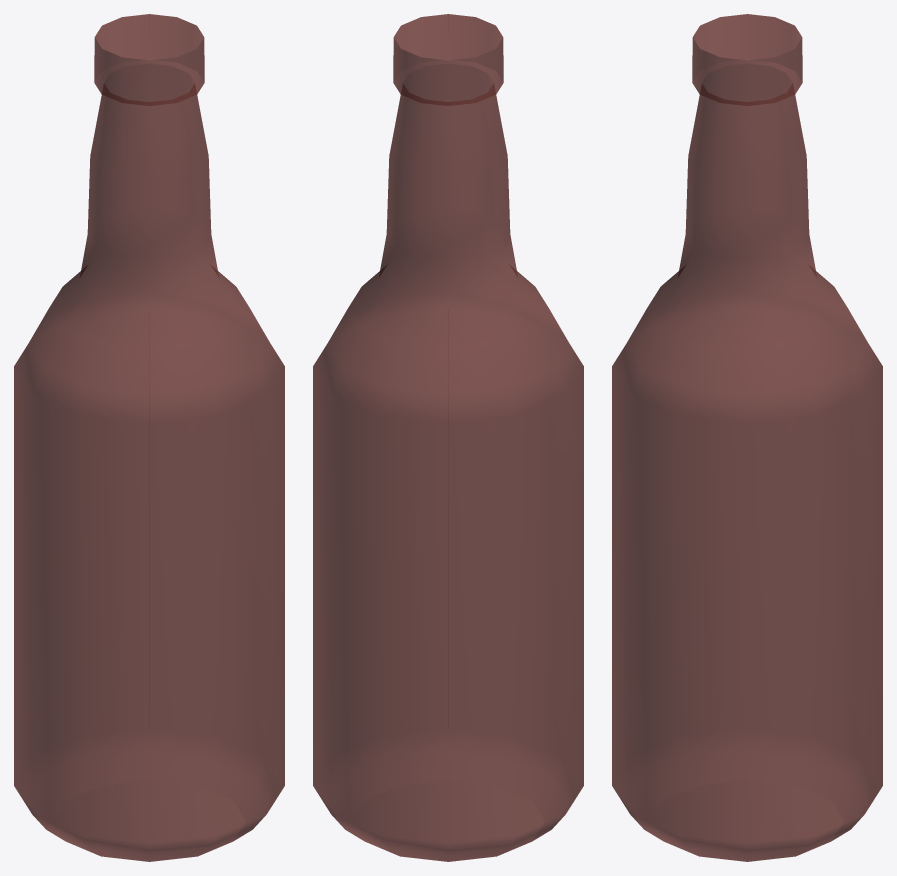
The model's file is Rum Bottle1.fbx.
3 renders of one model, left to right at view 1: azimuth 30°, elevation 25°; view 2: azimuth 150°, elevation 25°; view 3: azimuth 270°, elevation 25°, orthographic.
Parts seen in each view (by area): view 1: Rum_bottle1; view 2: Rum_bottle1; view 3: Rum_bottle1.
Boxes of the visible parts, x1,y1,x2,y2 form: Rum_bottle1: (14,14,284,861); Rum_bottle1: (313,14,583,861); Rum_bottle1: (612,14,882,861).
Bounding box in the file's own units: 0.4683 × 1.49 × 0.4683.
